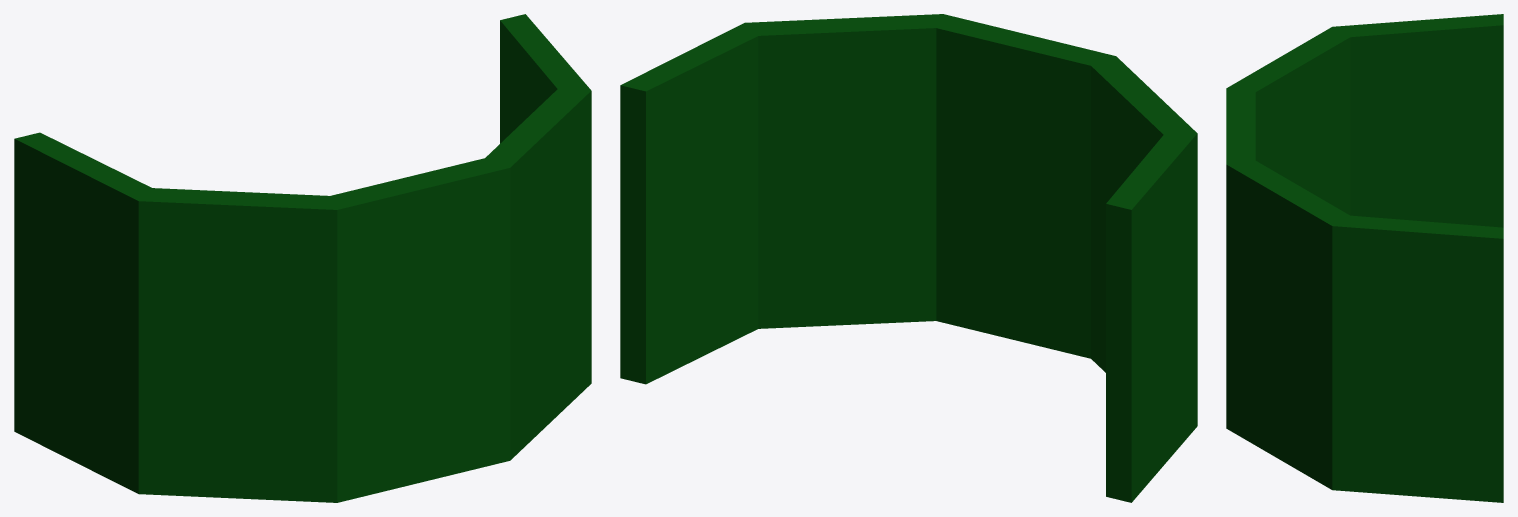
File: Player_Shield.fbx
3 renders of one model, left to right at view 1: azimuth 30°, elevation 25°; view 2: azimuth 150°, elevation 25°; view 3: azimuth 270°, elevation 25°, orthographic. The views are drawn at different scales.
Visible parts, largest first — view 1: Shield; view 2: Shield; view 3: Shield.
Boxes of the visible parts, <box> form: Shield: <box>14,14,591,502</box>; Shield: <box>620,14,1197,502</box>; Shield: <box>1226,14,1503,502</box>.
Bounding box in the file's own units: 1.83 × 1 × 0.9511.
